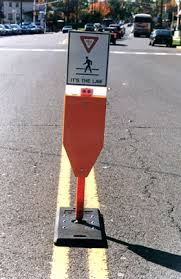yield_sign: (62, 31, 110, 89)
